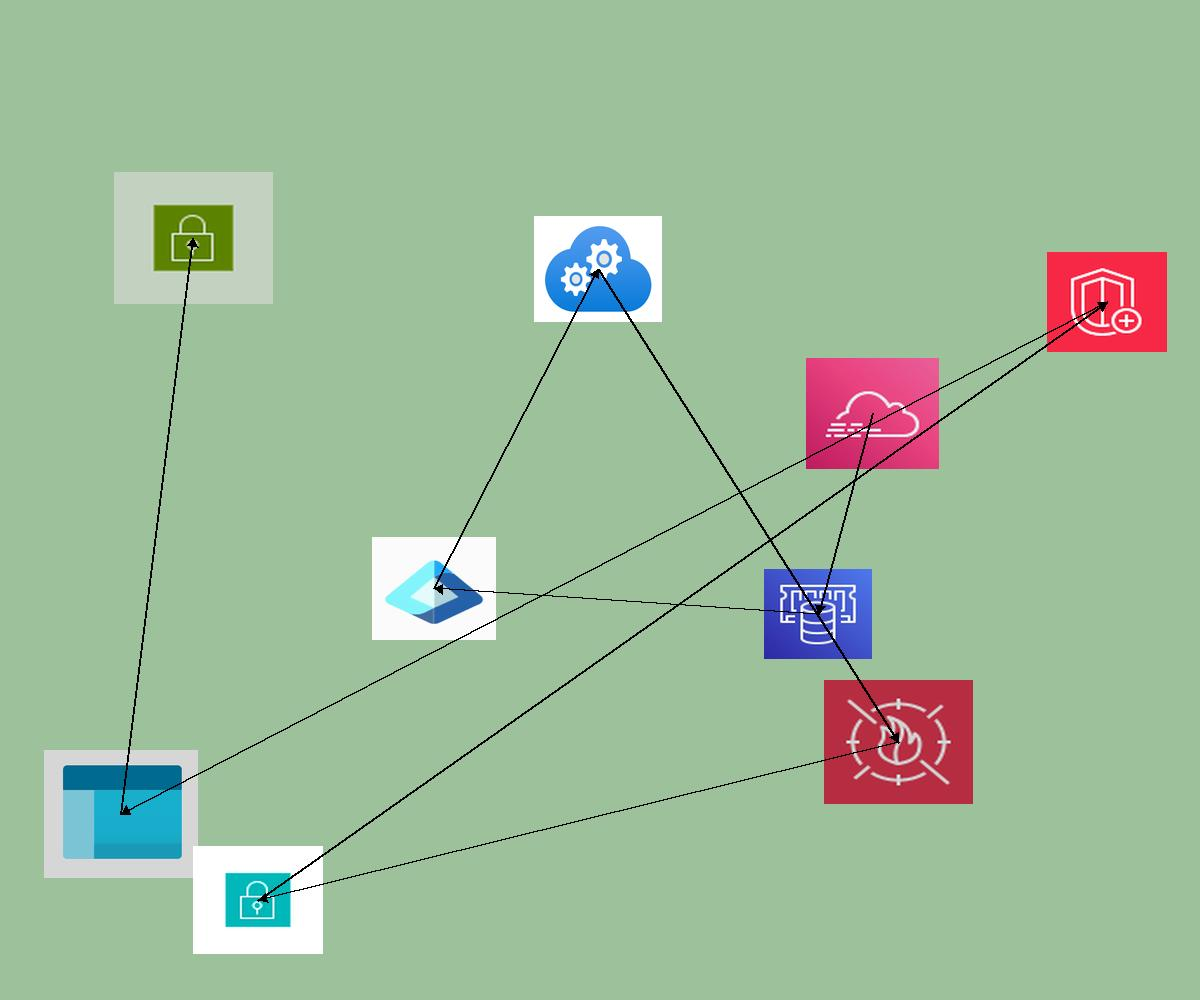AWS-CloudTrail: (806, 358, 939, 469)
AWS-ElastiCache: (764, 569, 872, 659)
AWS-Private-subnet: (193, 846, 323, 954)
AWS-Public-subnet: (114, 172, 273, 304)
AWS-Shield: (1047, 252, 1167, 352)
AWS-WAF: (824, 680, 973, 804)
Azure_cloud_services: (534, 216, 662, 322)
Azure_management-portal: (44, 750, 198, 878)
Azure_microsoft_entra: (372, 537, 496, 640)
